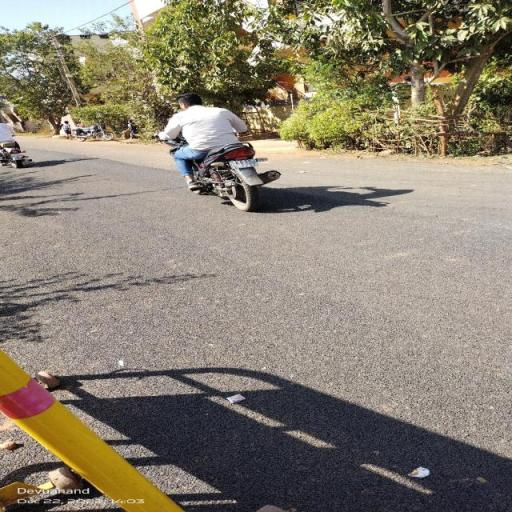bike: (153, 91, 288, 213)
withouthelmet: (180, 93, 204, 105)
